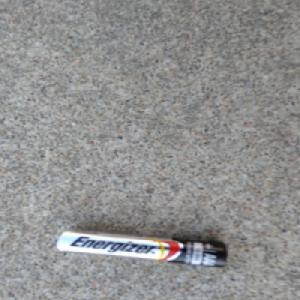Battery: (54, 227, 228, 267)
